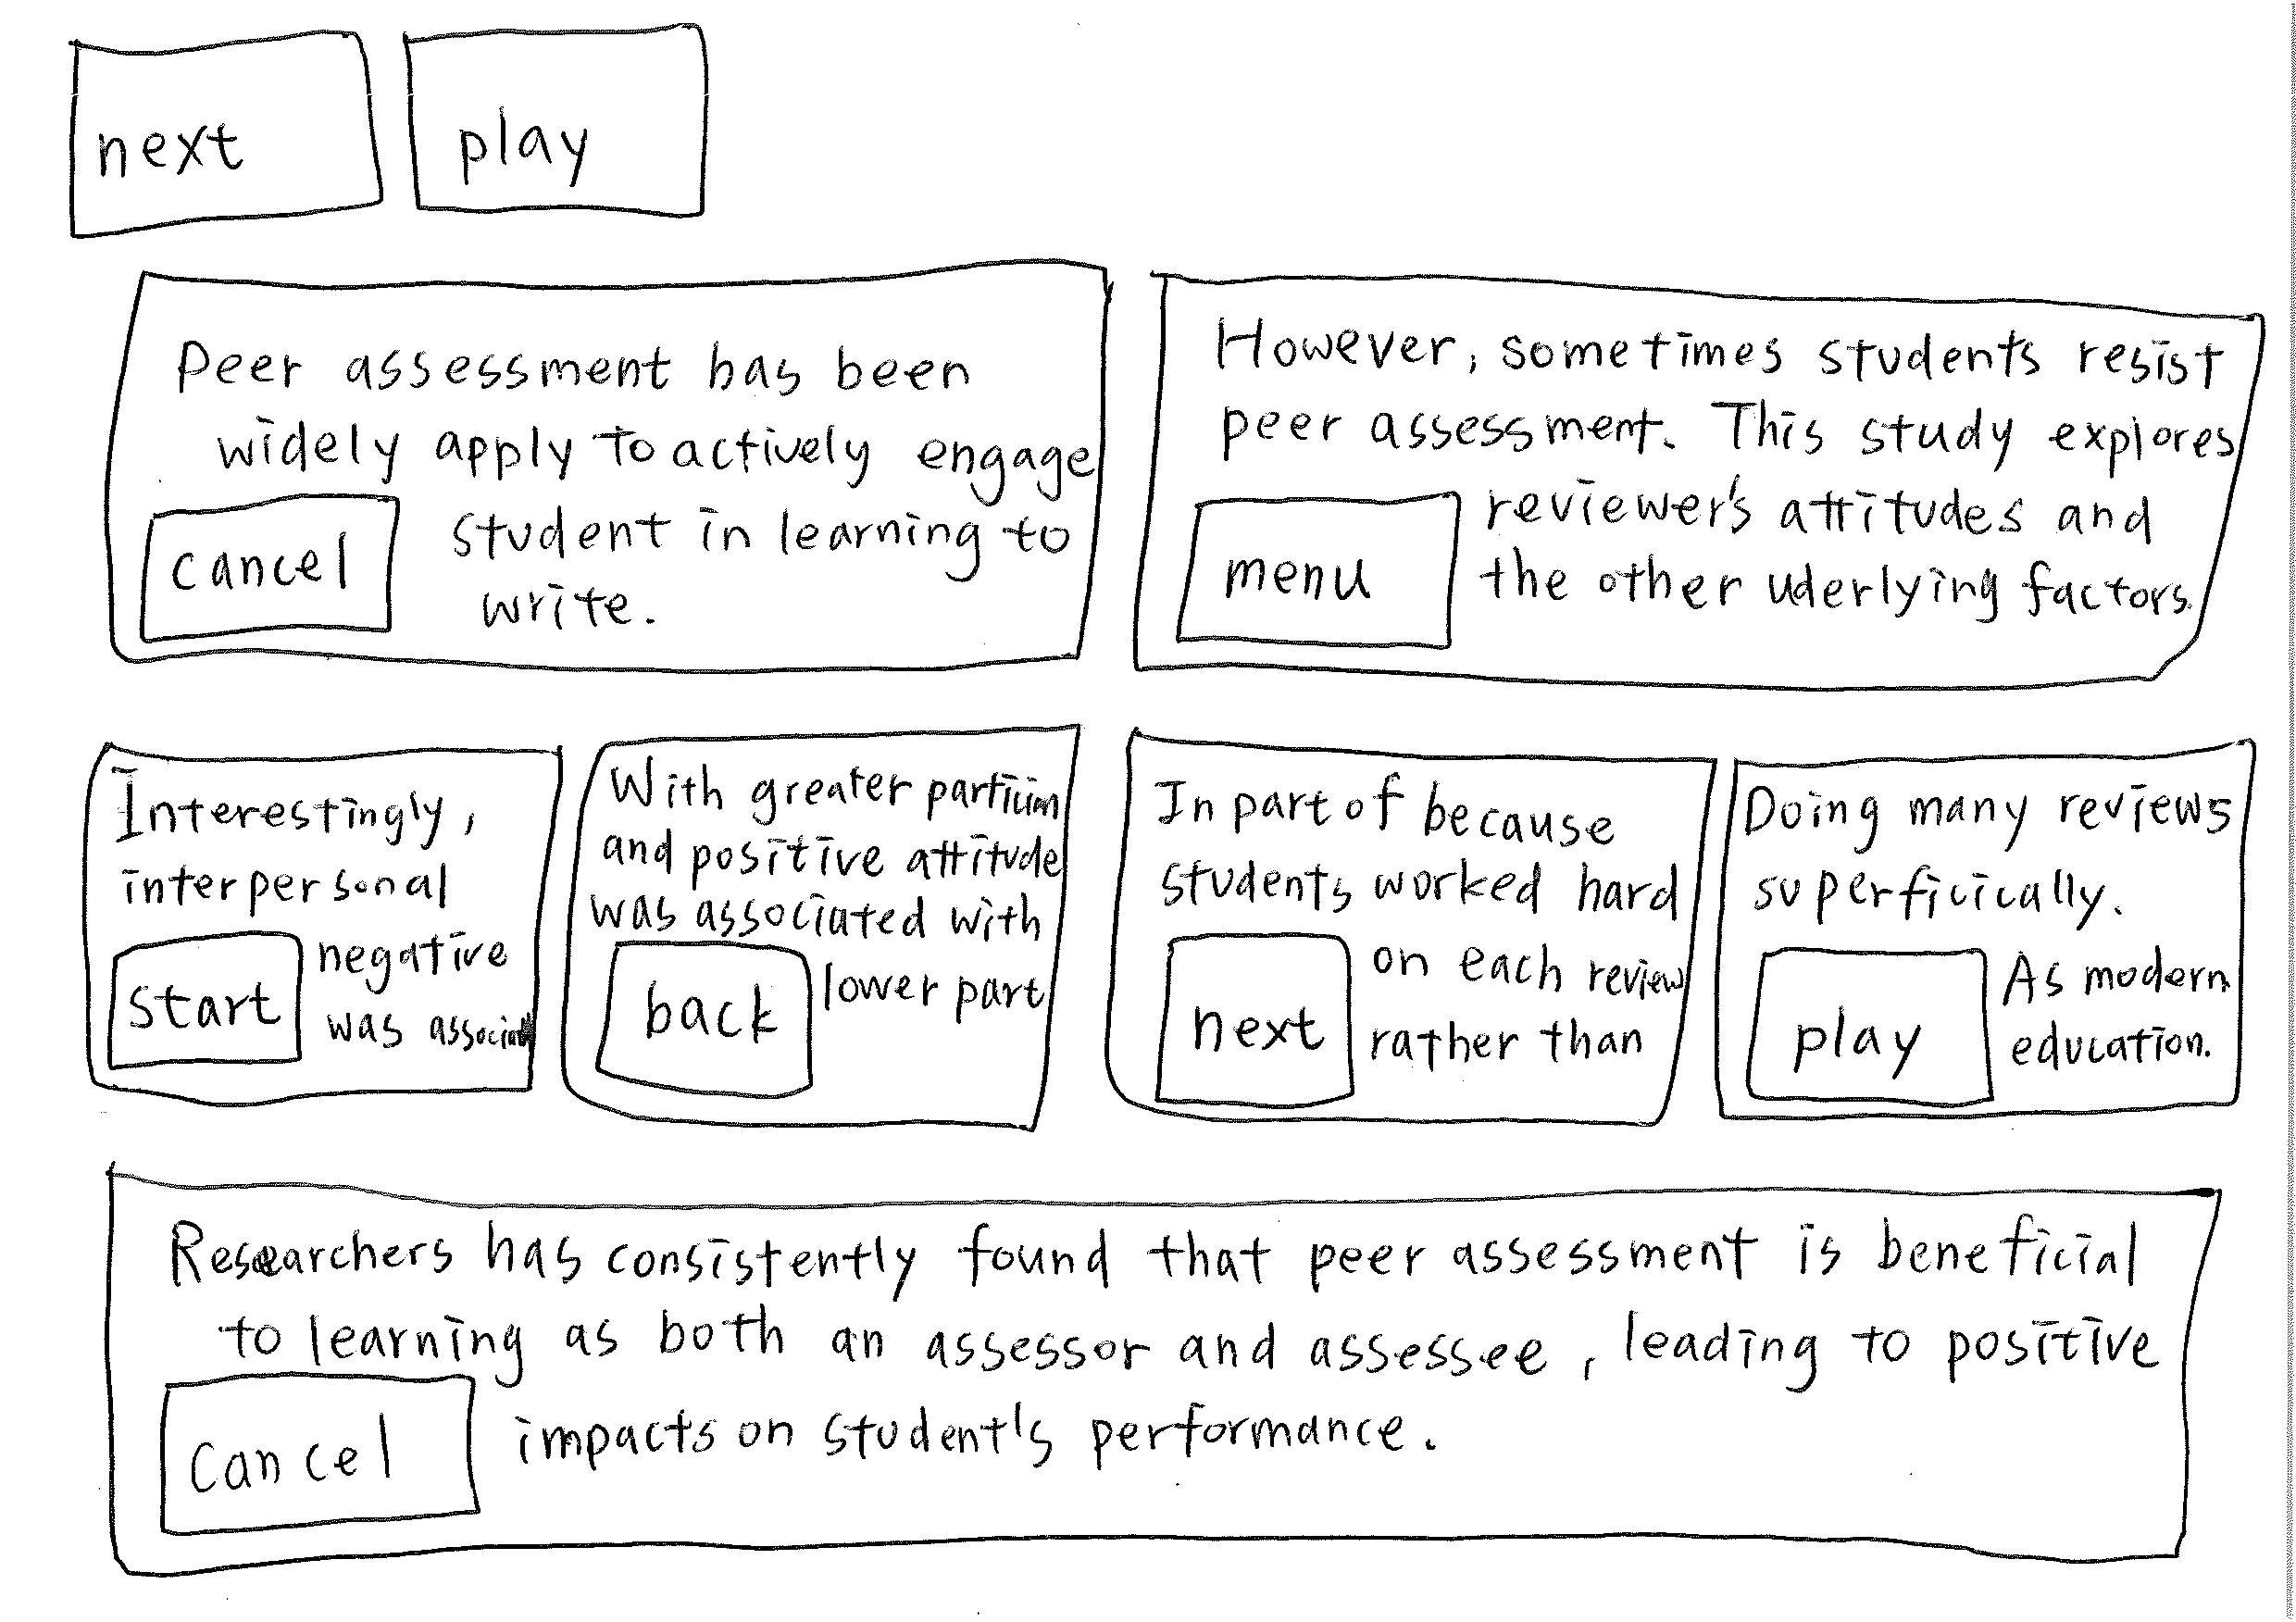back: (590, 923, 834, 1109)
cancel: (137, 1353, 502, 1532), (132, 483, 414, 648)
double: (1127, 246, 2296, 707), (77, 248, 1136, 699)
menu: (1152, 477, 1474, 664)
next: (37, 19, 384, 253), (1150, 911, 1369, 1127)
play: (384, 7, 746, 240), (1740, 934, 2012, 1118)
quadruple: (1087, 714, 1734, 1162), (1697, 730, 2296, 1160), (555, 707, 1106, 1155), (56, 706, 583, 1150)
row: (12, 248, 2296, 730), (12, 1139, 2296, 1622), (12, 690, 2296, 1171), (12, 2, 2296, 269)
single: (65, 1153, 2296, 1582)
small-title: (161, 1206, 2142, 1294), (1195, 295, 2228, 393), (191, 316, 1011, 405), (1745, 771, 2219, 851), (1159, 769, 1615, 846), (613, 751, 1051, 815), (102, 771, 490, 841)
start: (95, 925, 314, 1095)
text: (218, 1285, 2133, 1369), (1503, 404, 2182, 627), (502, 1315, 1492, 1468), (453, 483, 1073, 630), (1208, 397, 2226, 470), (216, 405, 1060, 481), (1410, 883, 1657, 1085), (593, 813, 1044, 922), (1171, 836, 1685, 918), (1994, 911, 2231, 1080), (816, 860, 1023, 1029), (112, 841, 470, 925), (1748, 851, 2115, 927), (334, 934, 504, 1059)
